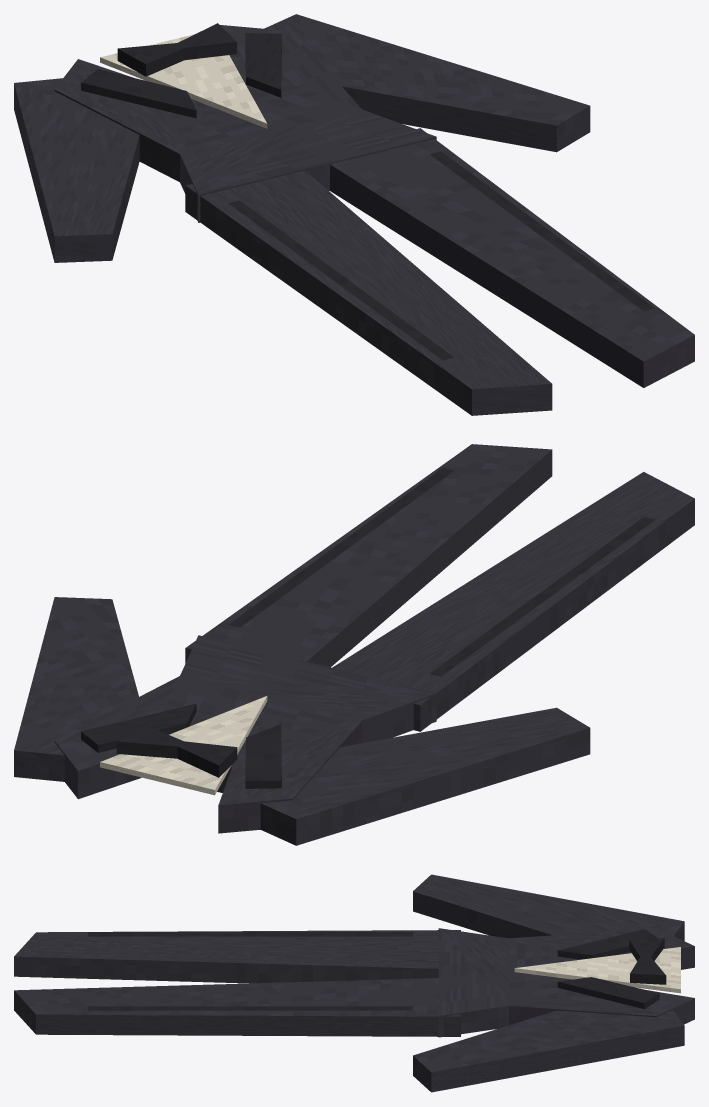
The model's file is tux.glb.
3 renders of one model, top to bottom at view 1: azimuth 30°, elevation 25°; view 2: azimuth 150°, elevation 25°; view 3: azimuth 270°, elevation 25°, orthographic. The views are drawn at different scales.
Visible parts, largest first — view 1: block_trouser leg (×2), block_sleeve (×2), block_tailored torso, block_satin trouser stripe (×2), block_suit lapel (×2), block_shirt bib, block_bow tie; view 2: block_trouser leg (×2), block_sleeve (×2), block_tailored torso, block_satin trouser stripe (×2), block_shirt bib, block_suit lapel (×2), block_bow tie; view 3: block_trouser leg (×2), block_sleeve (×2), block_tailored torso, block_satin trouser stripe (×2), block_shirt bib, block_suit lapel (×2), block_bow tie.
Boxes of the visible parts, bbox=[...] form: block_trouser leg (×2): bbox=[185, 128, 694, 415]; block_sleeve (×2): bbox=[14, 14, 590, 262]; block_tailored torso: bbox=[54, 25, 436, 222]; block_satin trouser stripe (×2): bbox=[228, 151, 655, 360]; block_suit lapel (×2): bbox=[81, 33, 281, 118]; block_shirt bib: bbox=[100, 34, 267, 128]; block_bow tie: bbox=[117, 23, 236, 76]; block_trouser leg (×2): bbox=[185, 444, 694, 731]; block_sleeve (×2): bbox=[14, 597, 590, 845]; block_tailored torso: bbox=[54, 635, 436, 833]; block_satin trouser stripe (×2): bbox=[228, 468, 655, 676]; block_shirt bib: bbox=[100, 696, 267, 795]; block_suit lapel (×2): bbox=[81, 703, 281, 788]; block_bow tie: bbox=[116, 725, 237, 777]; block_trouser leg (×2): bbox=[14, 930, 460, 1036]; block_sleeve (×2): bbox=[413, 874, 684, 1092]; block_tailored torso: bbox=[438, 928, 694, 1037]; block_satin trouser stripe (×2): bbox=[88, 932, 412, 1010]; block_shirt bib: bbox=[514, 947, 680, 993]; block_suit lapel (×2): bbox=[557, 929, 659, 1009]; block_bow tie: bbox=[629, 938, 666, 984].
Bounding box in the file's own units: 0.5766 × 0.05 × 0.8385.
Materials: 1 (1 with a texture image).
